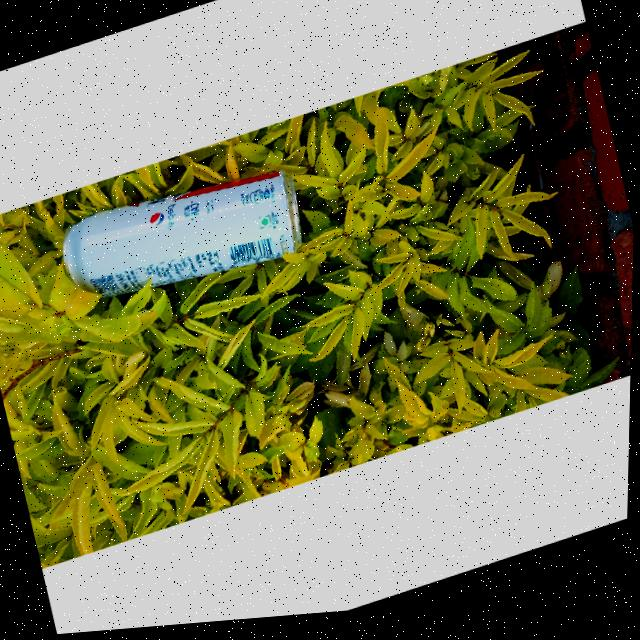Pepsi Retro: (52, 152, 308, 328)
